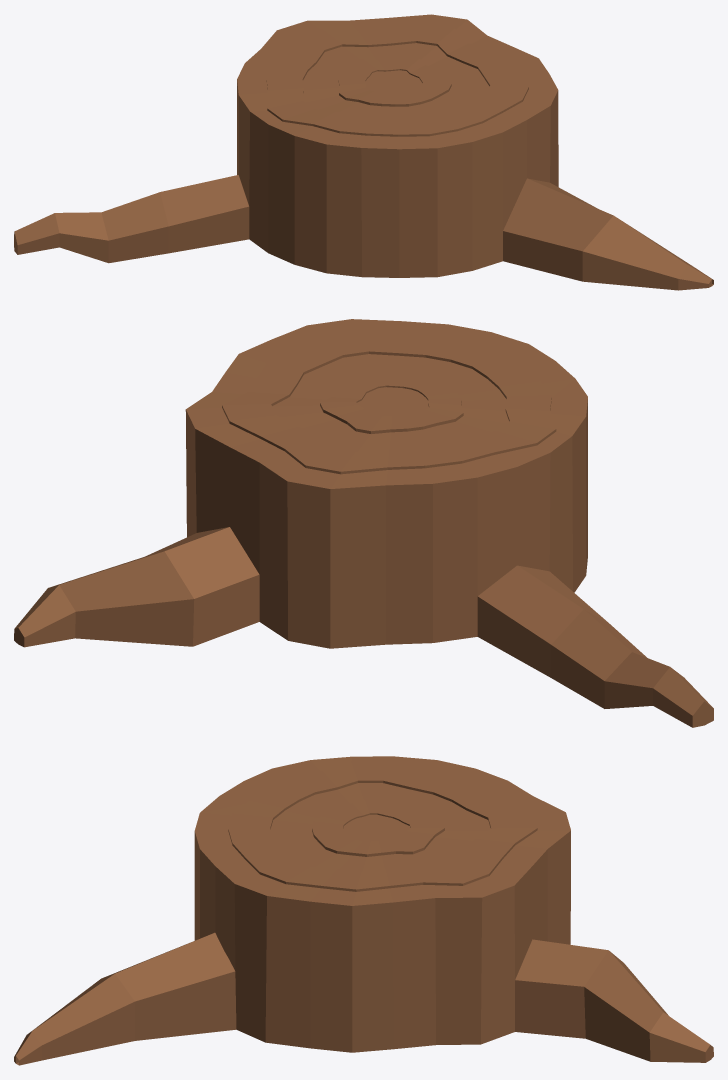
File: TreeStump-transformed.glb
3 views of the same model, one above another, from view 1: azimuth 30°, elevation 25°; view 2: azimuth 150°, elevation 25°; view 3: azimuth 270°, elevation 25° (orthographic). The views are drawn at different scales.
Parts seen in each view (by area): view 1: Object_651; view 2: Object_651; view 3: Object_651.
Boxes of the visible parts, x1,y1,x2,y2 form: Object_651: (14, 14, 713, 290); Object_651: (14, 319, 713, 727); Object_651: (14, 756, 713, 1065).
Bounding box in the file's own units: 0.8956 × 0.2661 × 0.99.
